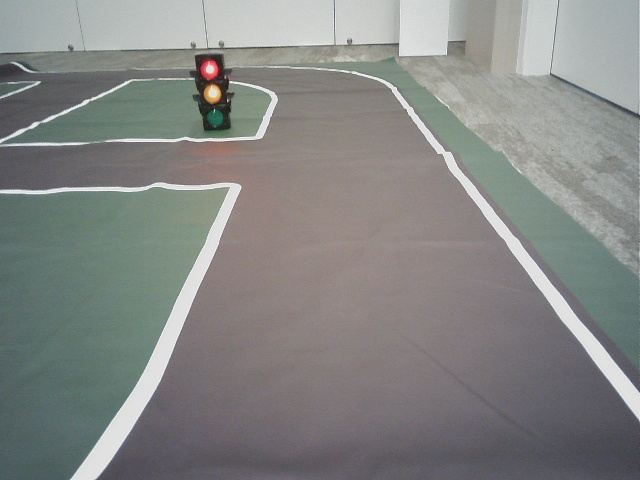red: (194, 56, 227, 127)
